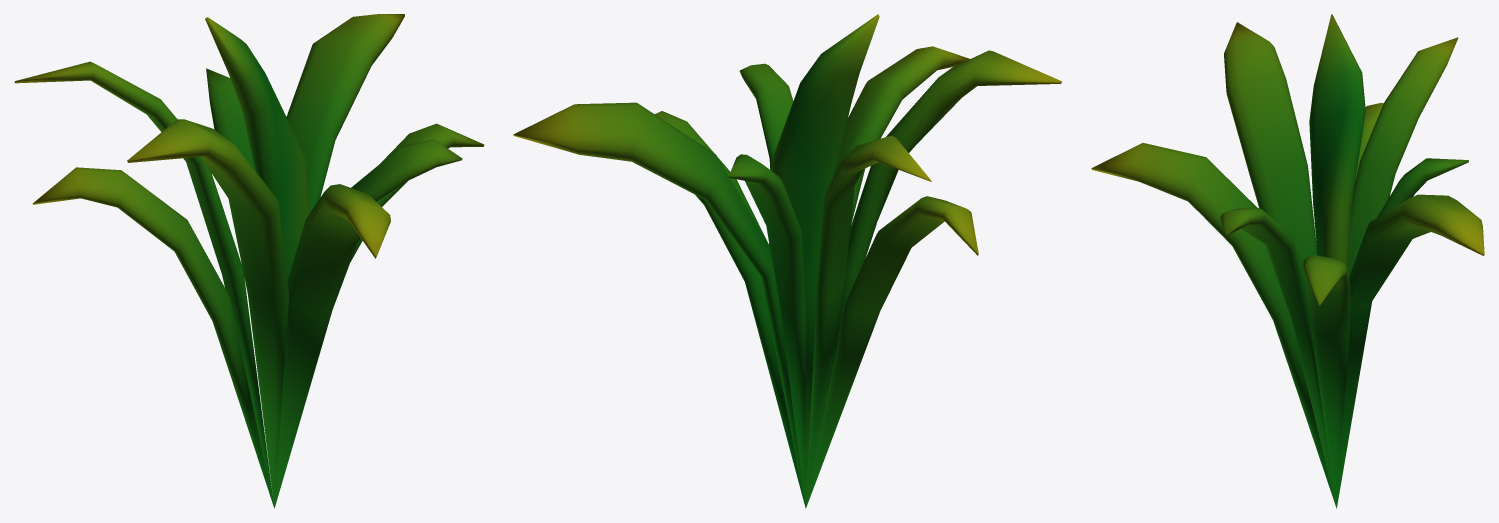
Rendered from plant_8.fbx.
The picture shows the model from 3 angles, left to right: view 1: azimuth 30°, elevation 25°; view 2: azimuth 150°, elevation 25°; view 3: azimuth 270°, elevation 25°; orthographic projection. The views are drawn at different scales.
Parts seen in each view (by area): view 1: plant_8; view 2: plant_8; view 3: plant_8.
Part boxes in pixels (x1,y1,x2,y2): plant_8: [14, 14, 484, 508]; plant_8: [513, 14, 1062, 508]; plant_8: [1091, 14, 1484, 508].
Size of the model in its own units: 88.82 by 103 by 79.47.
